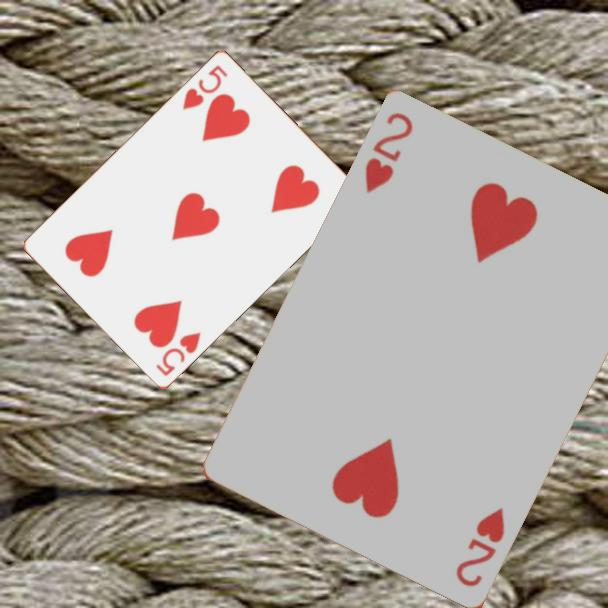h02: (361, 109, 417, 198), (452, 504, 508, 591)
h05: (179, 61, 231, 113), (152, 328, 204, 379)
